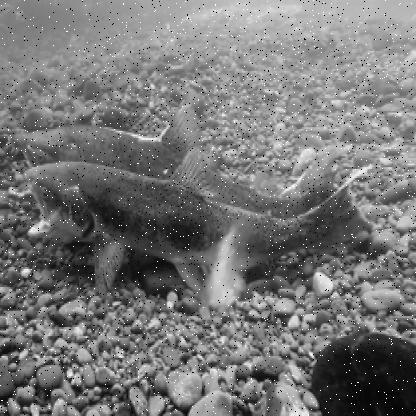fish: (17, 155, 373, 292), (6, 103, 350, 222)
